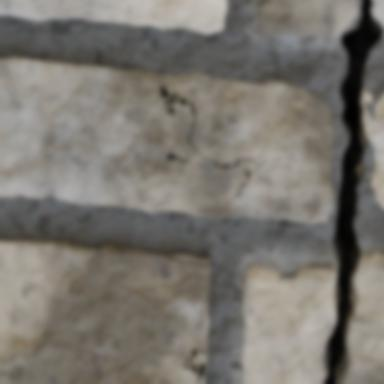brick: (0, 56, 332, 221), (0, 239, 210, 383), (0, 0, 225, 32), (366, 95, 383, 207), (170, 252, 209, 262), (193, 351, 205, 365), (364, 93, 370, 101)
broken_brick: (241, 264, 336, 383), (344, 251, 383, 383), (255, 0, 355, 35), (372, 0, 383, 28)
crack: (319, 0, 382, 383), (181, 347, 206, 383), (163, 253, 209, 266)
